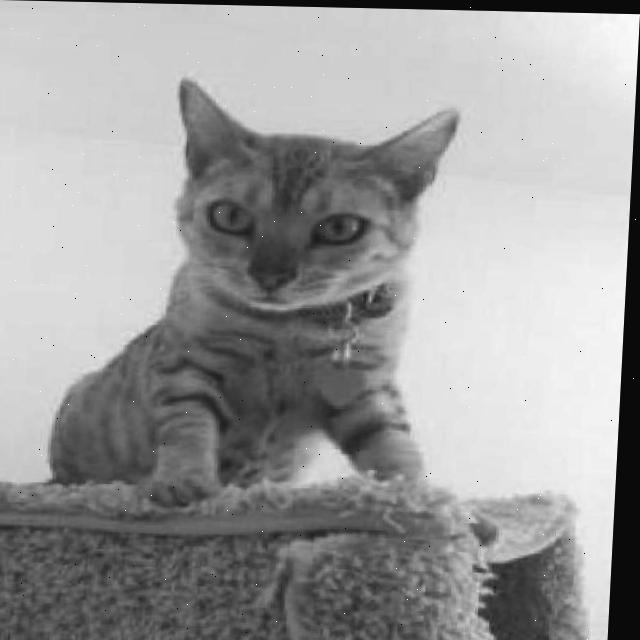Cat: (45, 72, 460, 512)
